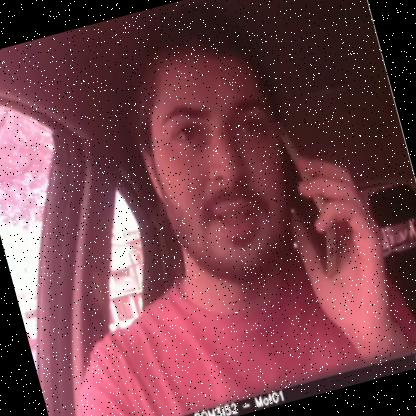phone: (262, 107, 360, 294)
